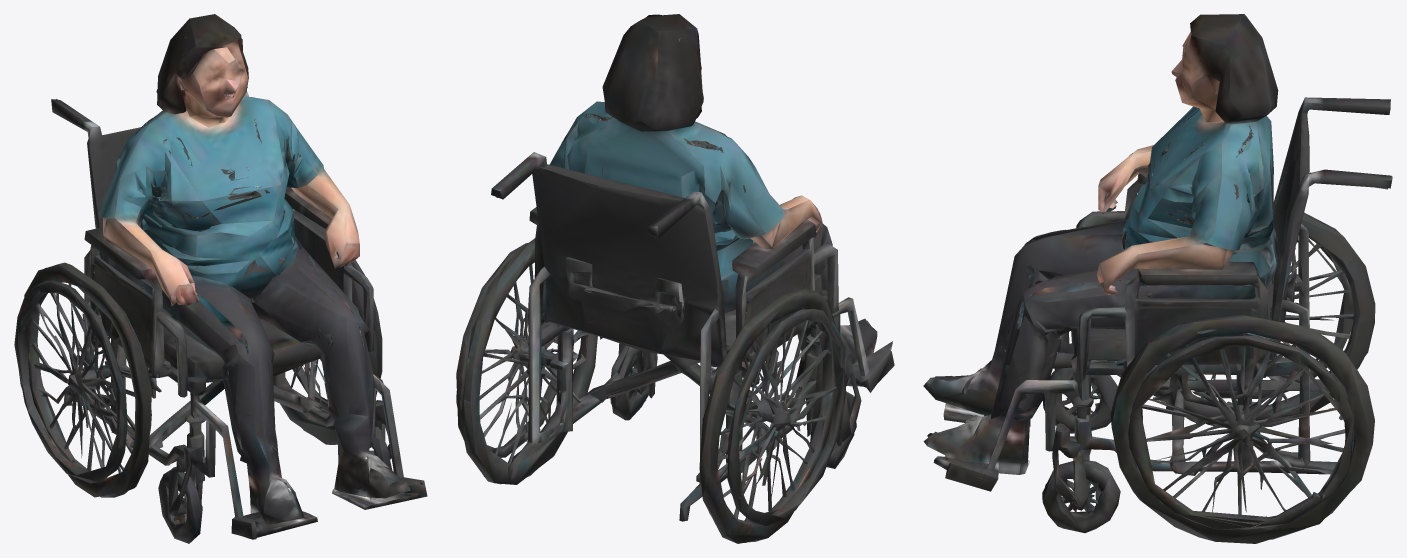
The model's file is person_10.glb.
3 renders of one model, left to right at view 1: azimuth 30°, elevation 25°; view 2: azimuth 150°, elevation 25°; view 3: azimuth 270°, elevation 25°, orthographic. The views are drawn at different scales.
Visible parts, largest first — view 1: Human_Rig; view 2: Human_Rig; view 3: Human_Rig.
Boxes of the visible parts, x1,y1,x2,y2 form: Human_Rig: (14,14,427,543); Human_Rig: (456,14,894,543); Human_Rig: (923,14,1392,543).
Bounding box in the file's own units: 0.774 × 1.24 × 1.12.
Materials: 1 (1 with a texture image).
